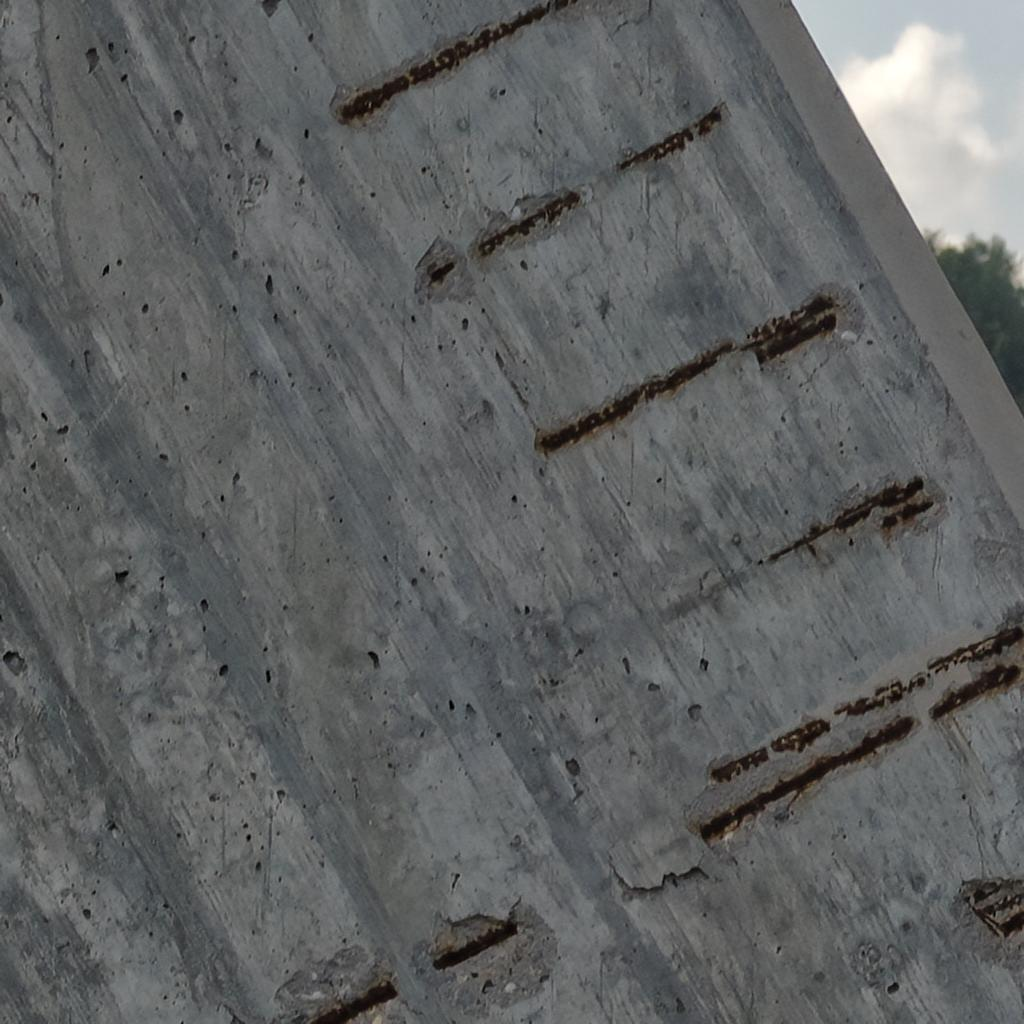exposed_rebar: (536, 294, 840, 453), (336, 0, 576, 122), (700, 716, 916, 839), (768, 476, 932, 561), (478, 192, 580, 255), (618, 108, 720, 170), (930, 664, 1020, 719), (928, 626, 1024, 673), (434, 920, 518, 969), (308, 982, 398, 1023), (836, 678, 924, 716), (710, 748, 770, 784), (974, 896, 1023, 938), (770, 720, 830, 752), (962, 880, 1006, 909), (424, 258, 455, 285)
spalling: (688, 625, 1024, 841), (534, 288, 862, 454), (330, 0, 576, 127), (416, 184, 596, 300), (416, 902, 556, 1016), (766, 474, 948, 561), (272, 946, 410, 1023), (600, 104, 724, 179), (950, 878, 1024, 971)
